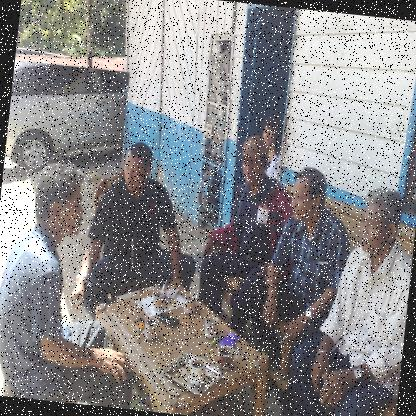Car: (3, 59, 131, 182)
